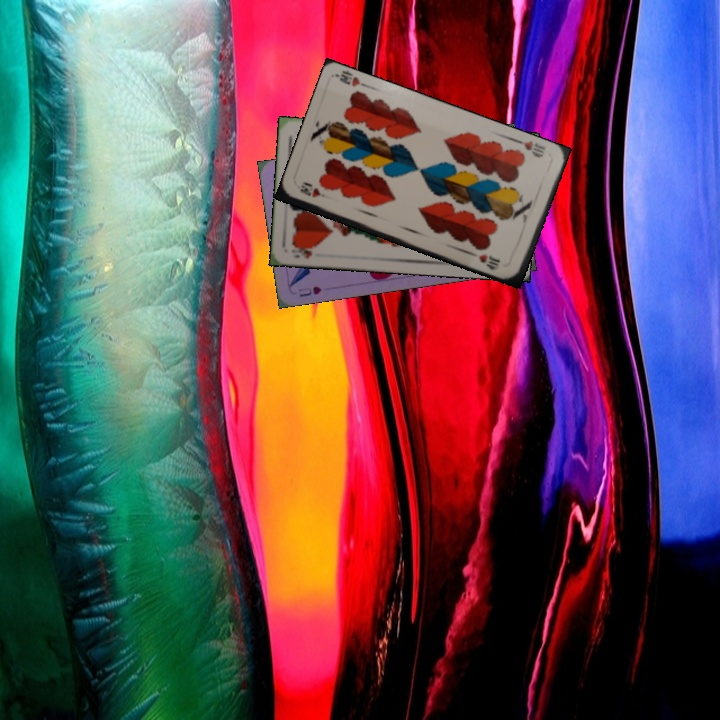H10: (513, 136, 548, 160), (296, 182, 334, 202)
HO: (287, 242, 316, 261)
HU: (294, 282, 324, 299)
